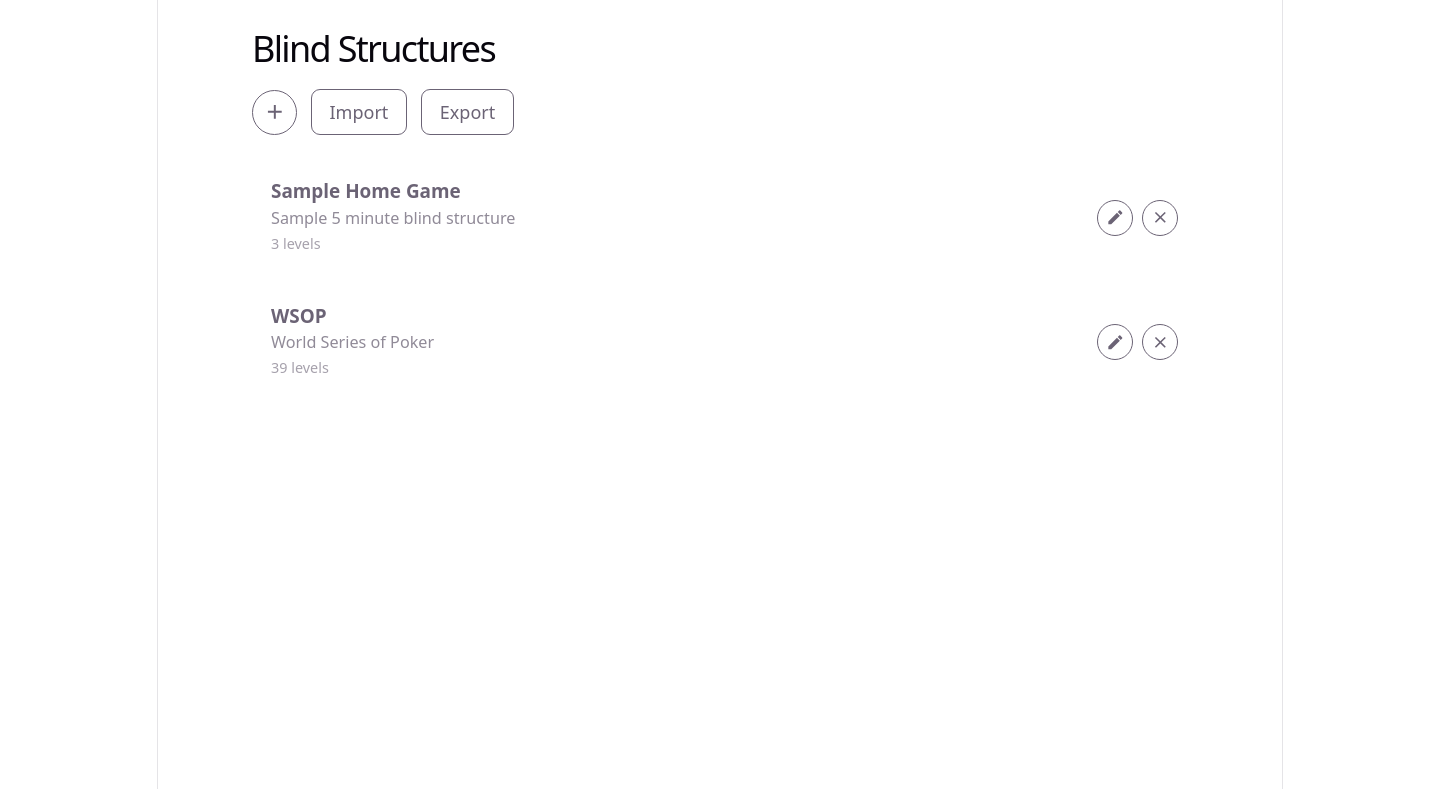
Scenario: SettingsPage › edits an existing structure and renames it
Click the button named "Edit Sample Home Game" at {"x": 1115, "y": 218}, box [1097,200,1133,236]
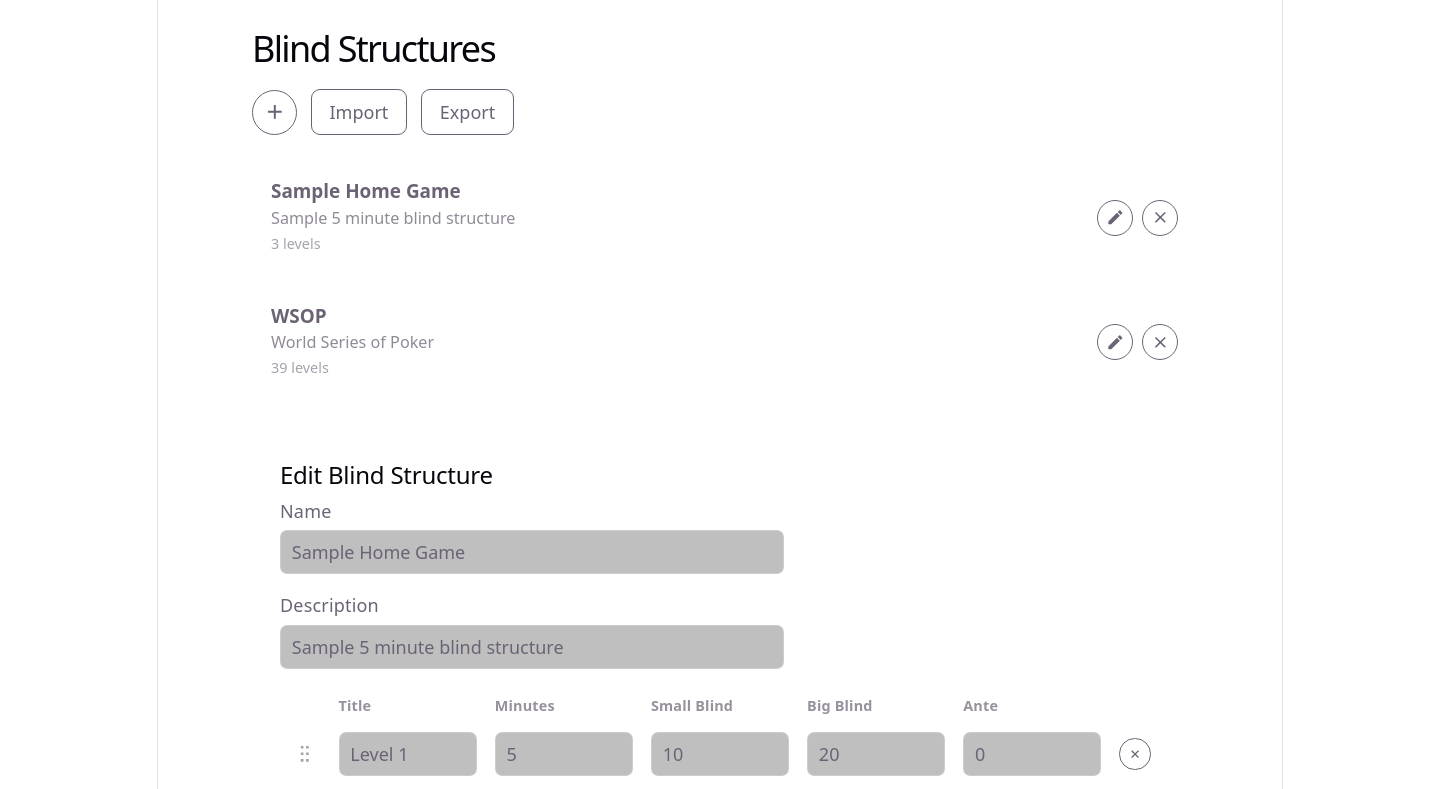
Replace the text in the field labelled "Name" with "Renamed Game" at {"x": 532, "y": 552}, box [280,530,784,574]
(page scrolled)
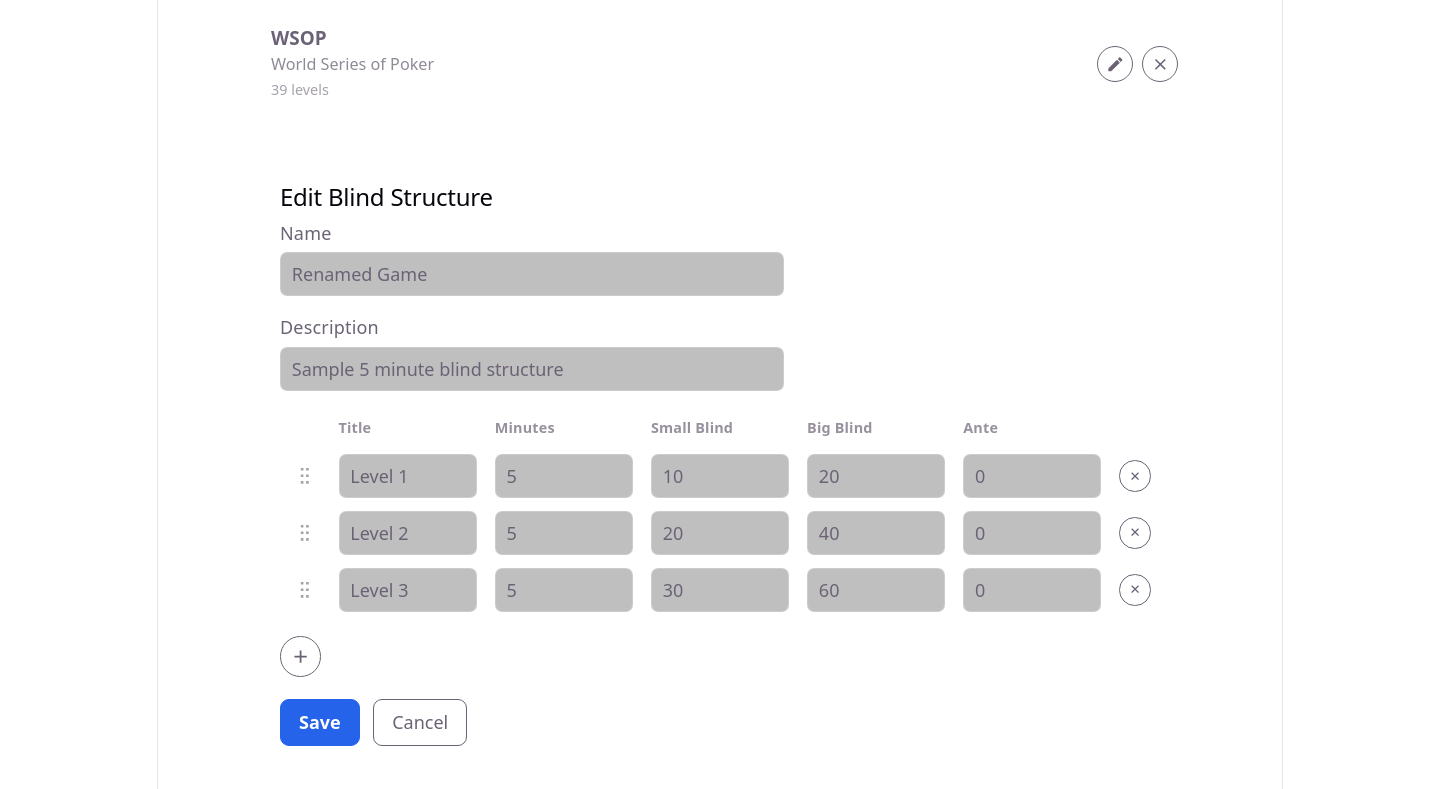
Click the button "Save" at {"x": 320, "y": 722}, box [280,699,360,746]
(page scrolled)
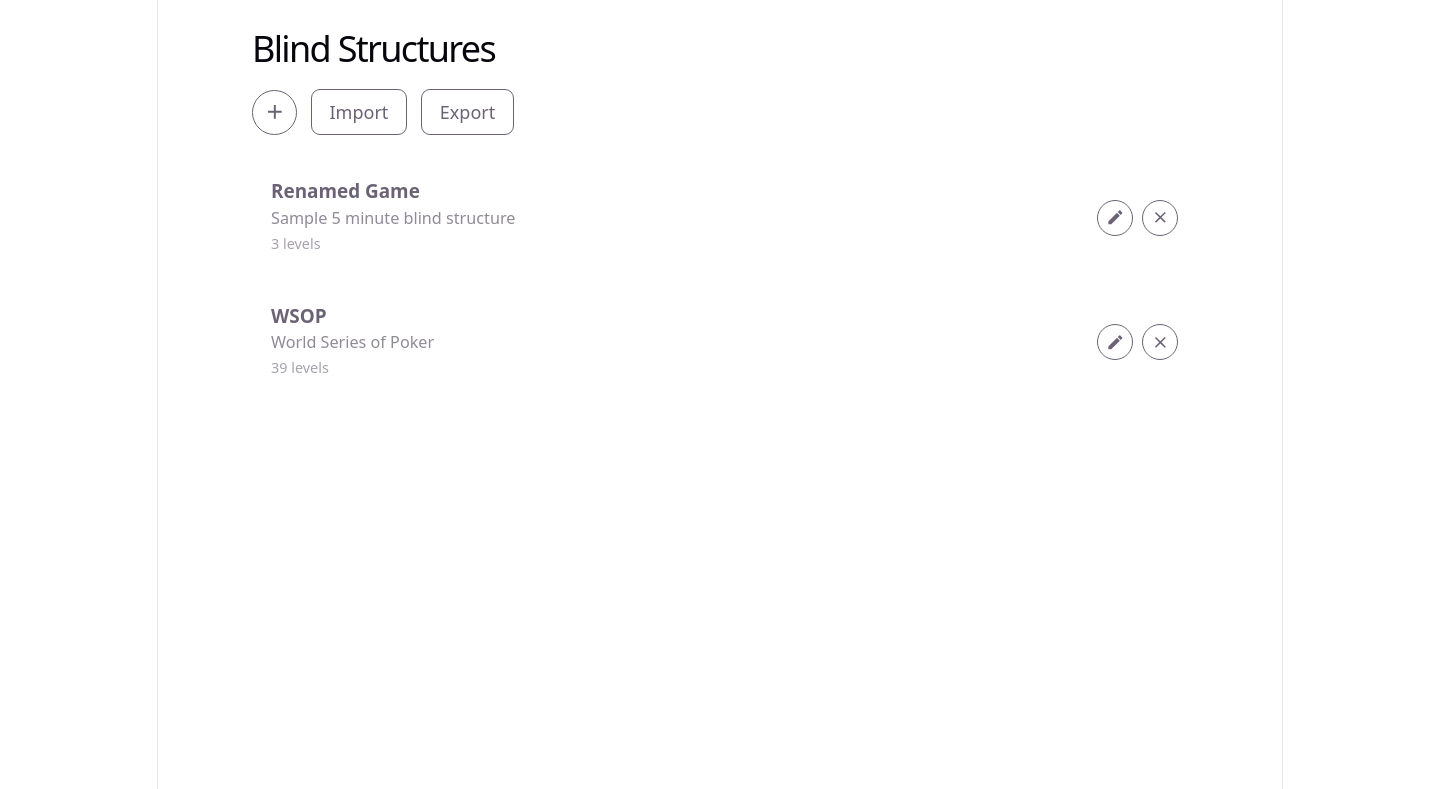
expect the text "Renamed Game" is shown: met, box [271,178,420,205]
